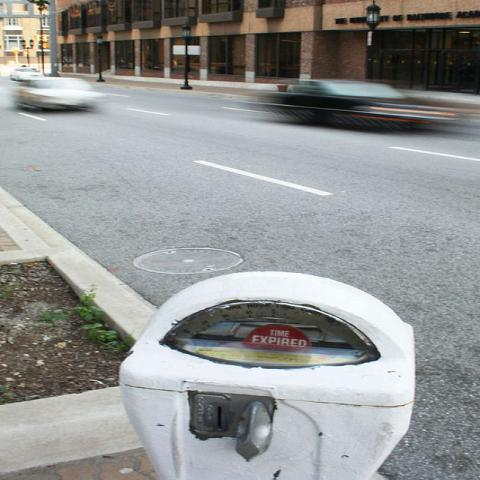car: (274, 78, 452, 131), (7, 78, 105, 111), (8, 68, 41, 80)
